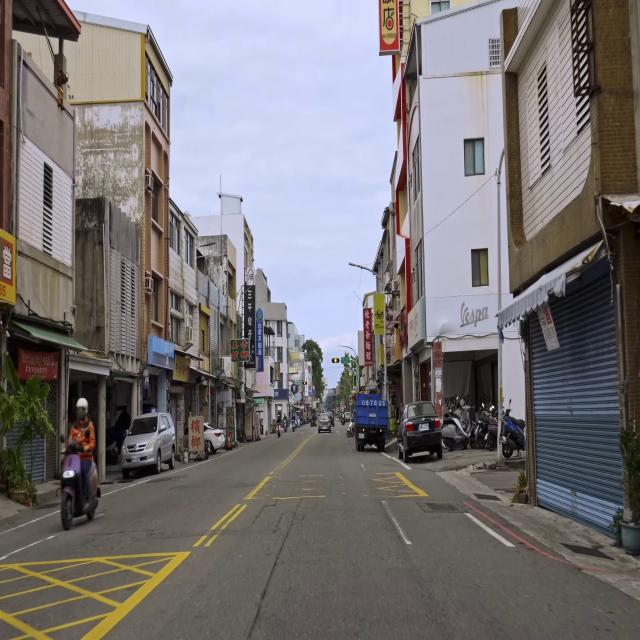yellow light: (332, 358, 339, 363), (302, 381, 307, 385)
